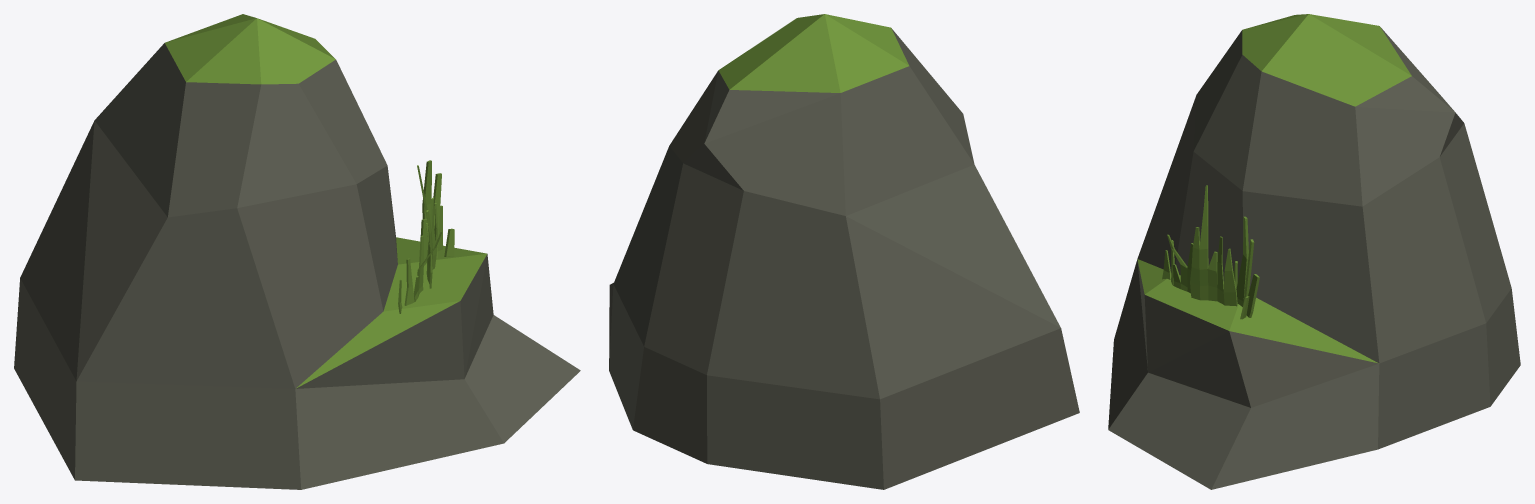
File: green_rock_L_03.fbx
3 renders of one model, left to right at view 1: azimuth 30°, elevation 25°; view 2: azimuth 150°, elevation 25°; view 3: azimuth 270°, elevation 25°, orthographic. The views are drawn at different scales.
Parts seen in each view (by area): view 1: Cube.023; view 2: Cube.023; view 3: Cube.023.
Boxes of the visible parts, box(x1,y1,x2,y2) form: Cube.023: box(14, 14, 580, 489); Cube.023: box(609, 14, 1079, 489); Cube.023: box(1108, 14, 1520, 489).
Size of the model in its own units: 817 by 603 by 639.
